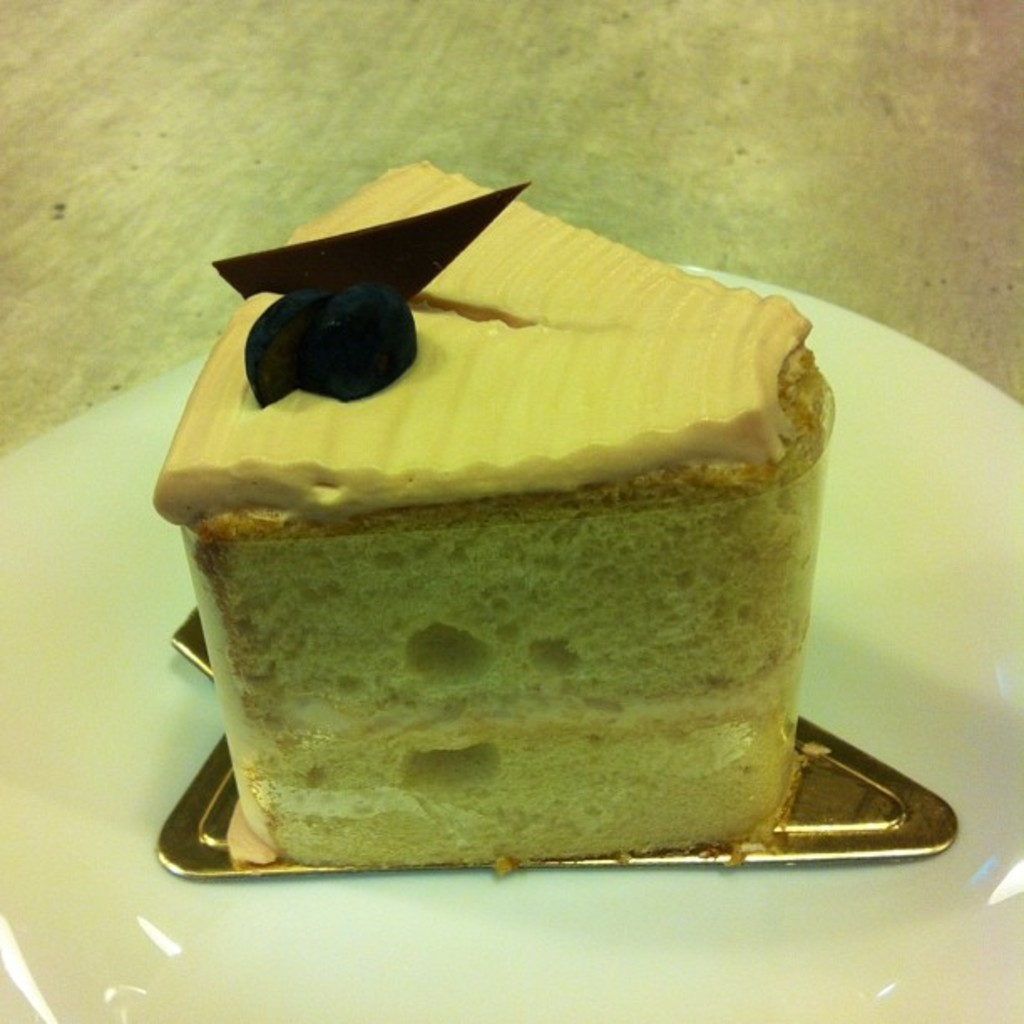cake: (156, 161, 835, 868)
